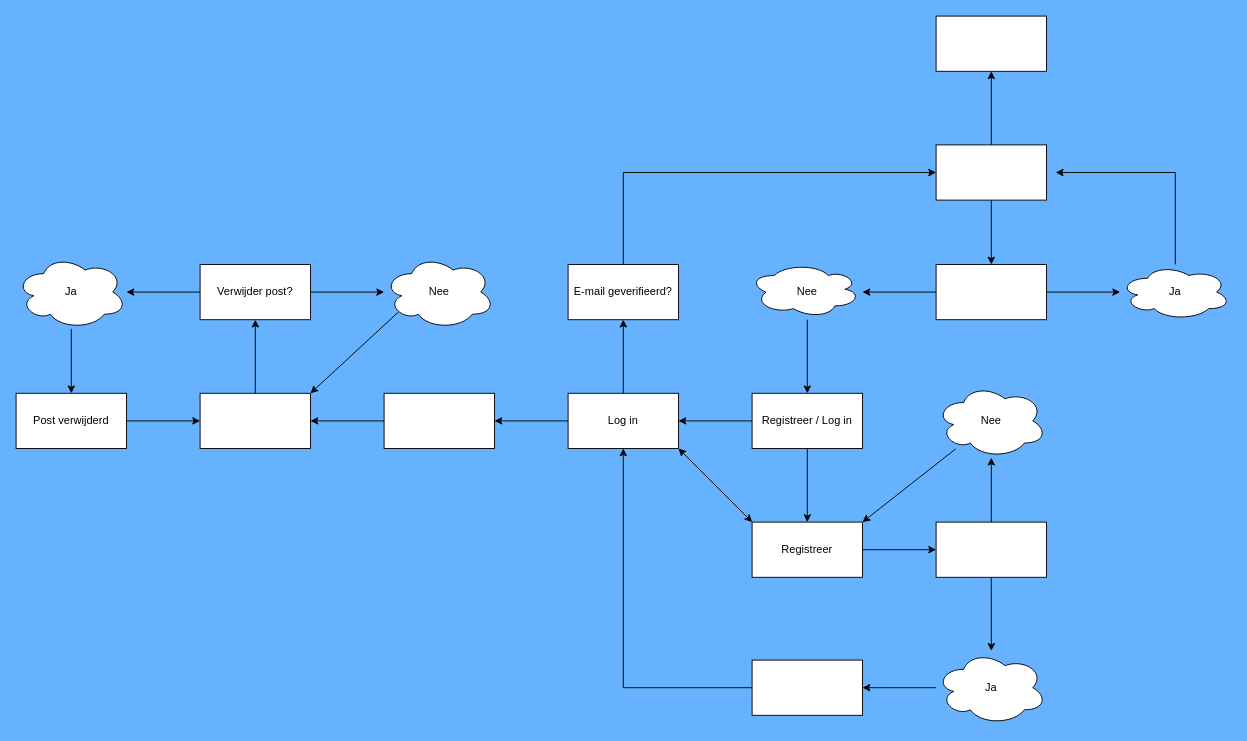
Image size: 1247x741. Some labels were removed from this diagram. The centre of each missing label's shape, as x and y in pixels:
"ADMIN paneel" goes at (x=438, y=420).
"E-mail verificatie verstuurd" goes at (x=806, y=687).
"Formulier ingevuld & valid?" goes at (x=990, y=549).
"Gebruiker ingelogd?" goes at (x=990, y=292).
"Home (/)" goes at (x=990, y=172).
"Overzicht van alle posts" goes at (x=254, y=420).
